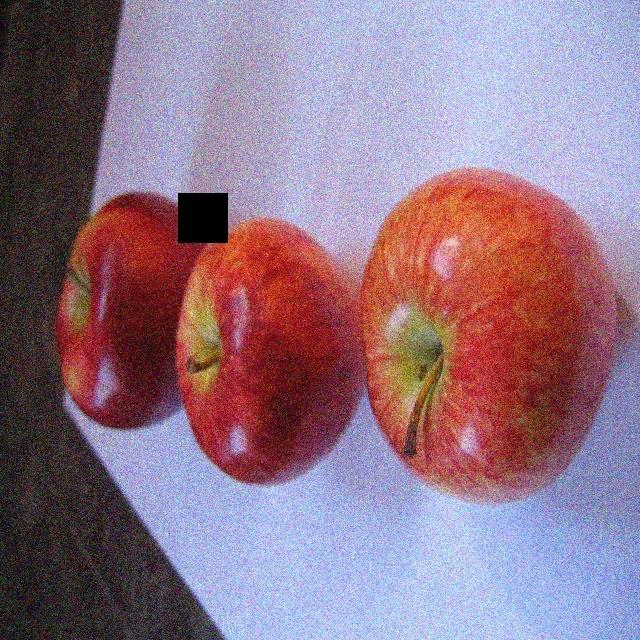red apple: (360, 168, 621, 505), (174, 207, 366, 484), (48, 186, 215, 434)
